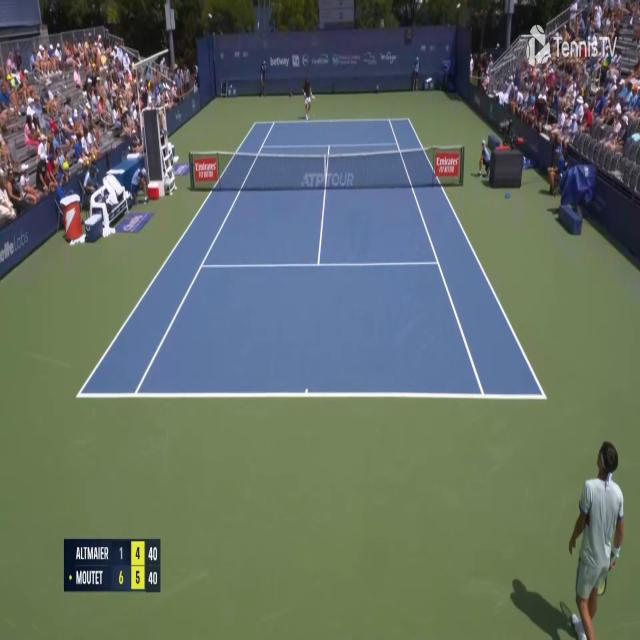tennis-player: (561, 436, 626, 640), (302, 72, 314, 122)
